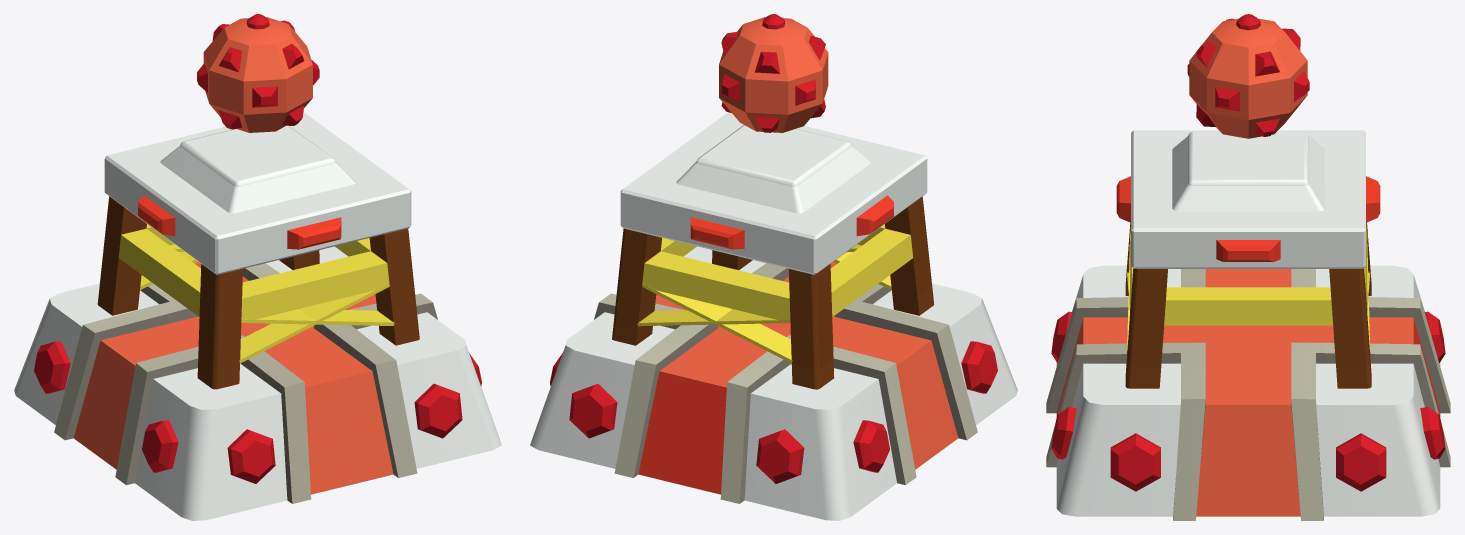
File: island5-defense2.fbx
The picture shows the model from 3 angles, left to right: view 1: azimuth 30°, elevation 25°; view 2: azimuth 150°, elevation 25°; view 3: azimuth 270°, elevation 25°; orthographic projection. The views are drawn at different scales.
Parts seen in each view (by area): view 1: island5(pink)-defense2, island5(pink)-defense2.01; view 2: island5(pink)-defense2, island5(pink)-defense2.01; view 3: island5(pink)-defense2, island5(pink)-defense2.01.
Part boxes in pixels (bbox=[...]): island5(pink)-defense2: bbox=[14, 112, 501, 520]; island5(pink)-defense2.01: bbox=[197, 14, 319, 132]; island5(pink)-defense2: bbox=[530, 112, 1017, 520]; island5(pink)-defense2.01: bbox=[719, 14, 828, 132]; island5(pink)-defense2: bbox=[1046, 130, 1450, 520]; island5(pink)-defense2.01: bbox=[1187, 14, 1309, 138].
Size of the model in its own units: 2.52 by 2.89 by 2.52.
Materials: 1 (1 with a texture image).
